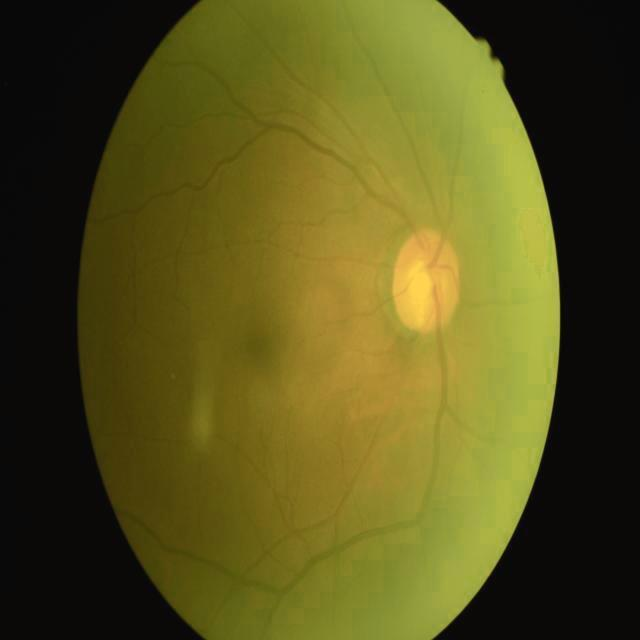cup: (408, 260, 446, 310)
disk: (392, 231, 460, 331)
